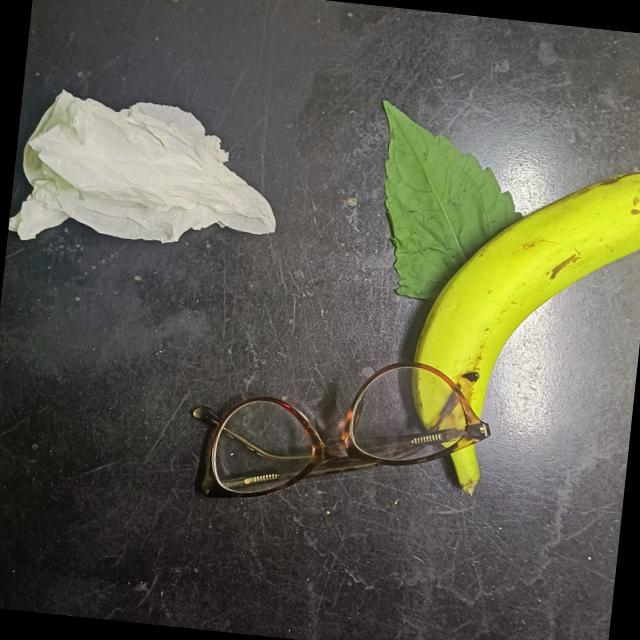Banana-Bio: (395, 141, 640, 510)
Leaf-Bio: (356, 95, 538, 313)
Spectacles-NonBio: (174, 333, 499, 534)
Tissue Paper-Bio: (6, 80, 295, 276)
